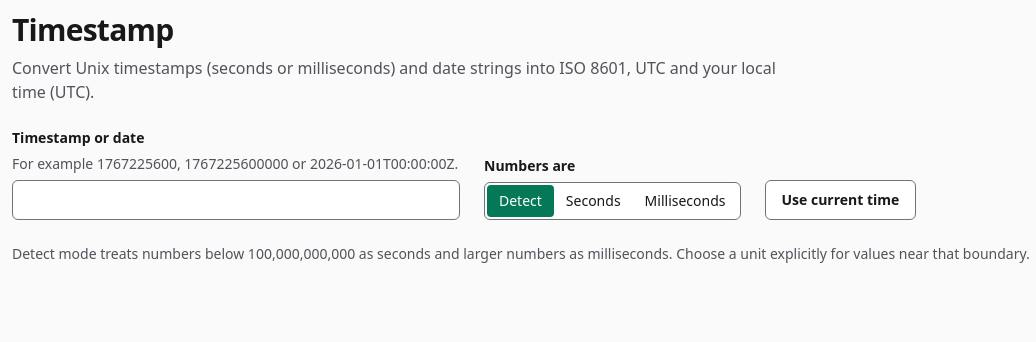
Scenario: TimestampTool › shows an error for unrecognised input and fills in the current time
Later steps or results of the test are not shown.
Type "soon" into the field labelled "Timestamp or date" at (236, 200), box [12,180,460,220]
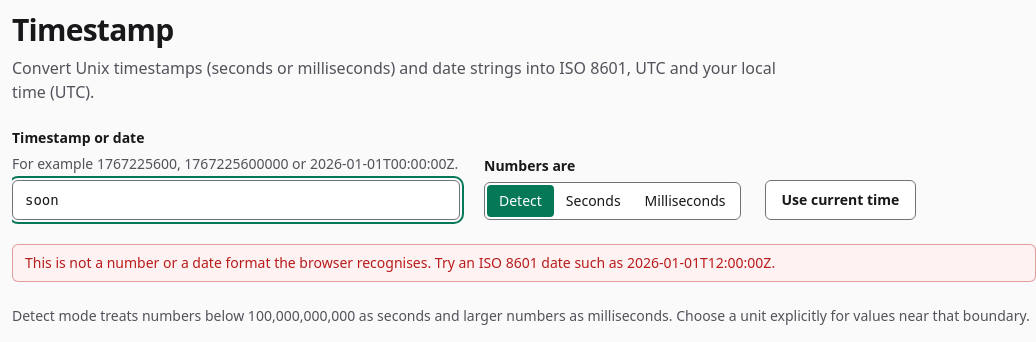
Check: the field labelled "Timestamp or date" is marked as invalid, box [12,180,460,220]
